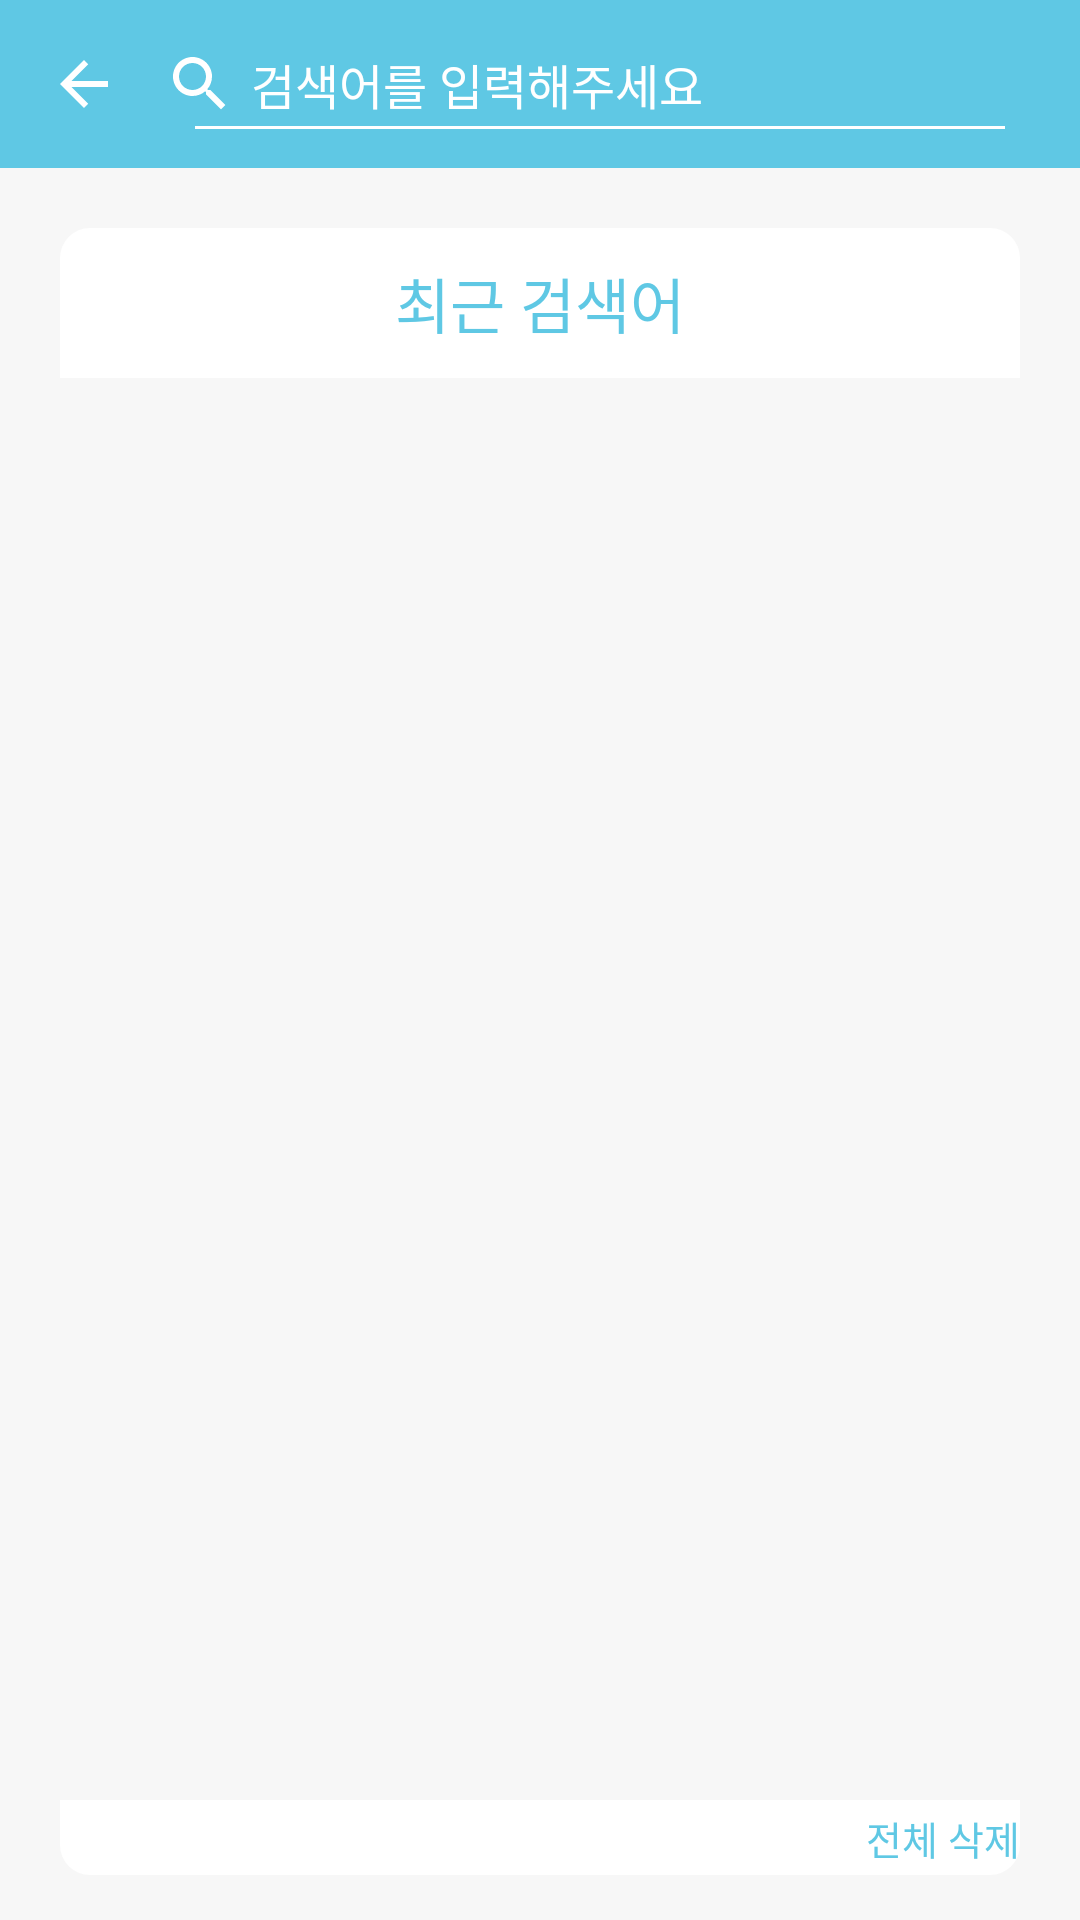

Screen size 1080w x 1920h. Icon name, then its box in pixels as (x1, y1, x2, y2):
arrow back: (60, 60, 108, 108)
